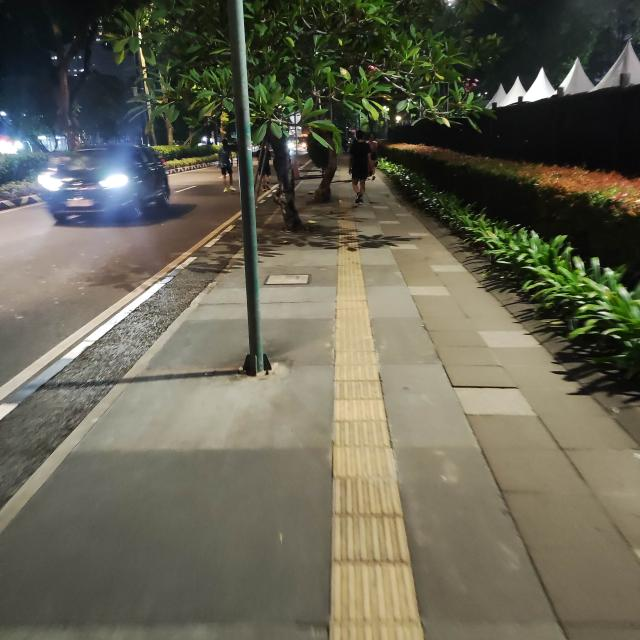lurus: (313, 269, 415, 640)
